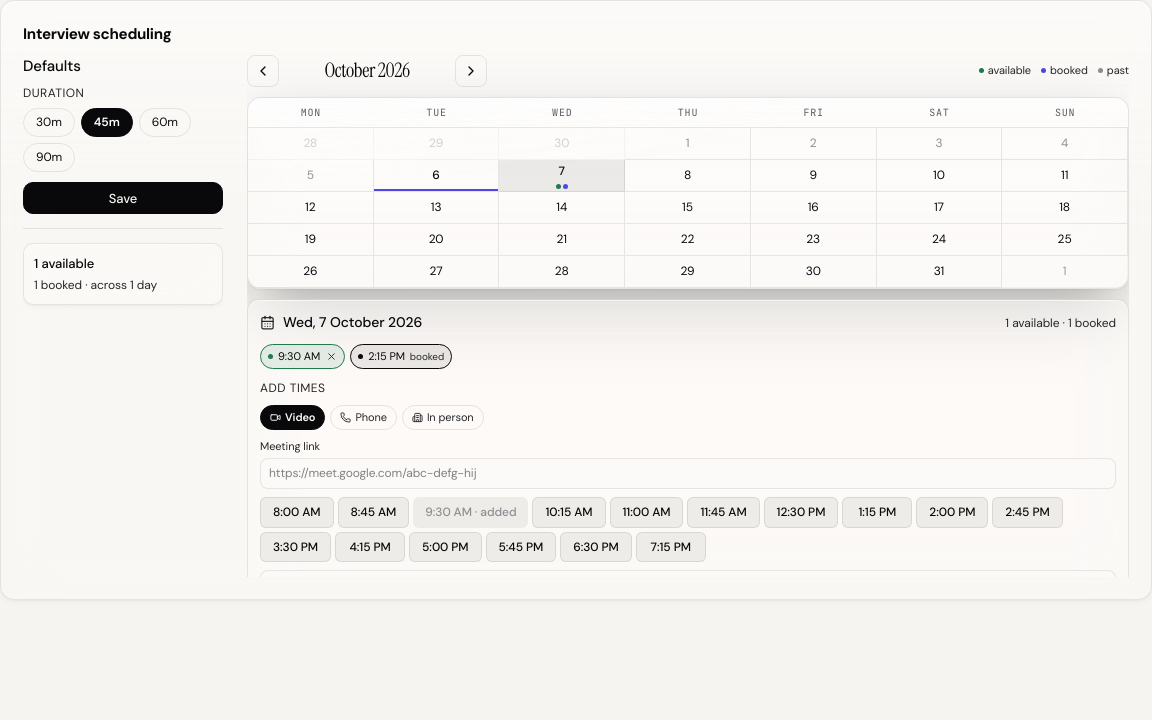
day detail panel › defaults to the next available date and switches when a date is clicked
The image size is (1152, 720).
Check: the element with test id "day-detail-panel" is shown, box [247,299,1129,577]
Check: the text "9:30 AM" is shown, box [260,344,345,369]
Step 1. Click the button "6" → (437, 176), box [374,160,499,192]
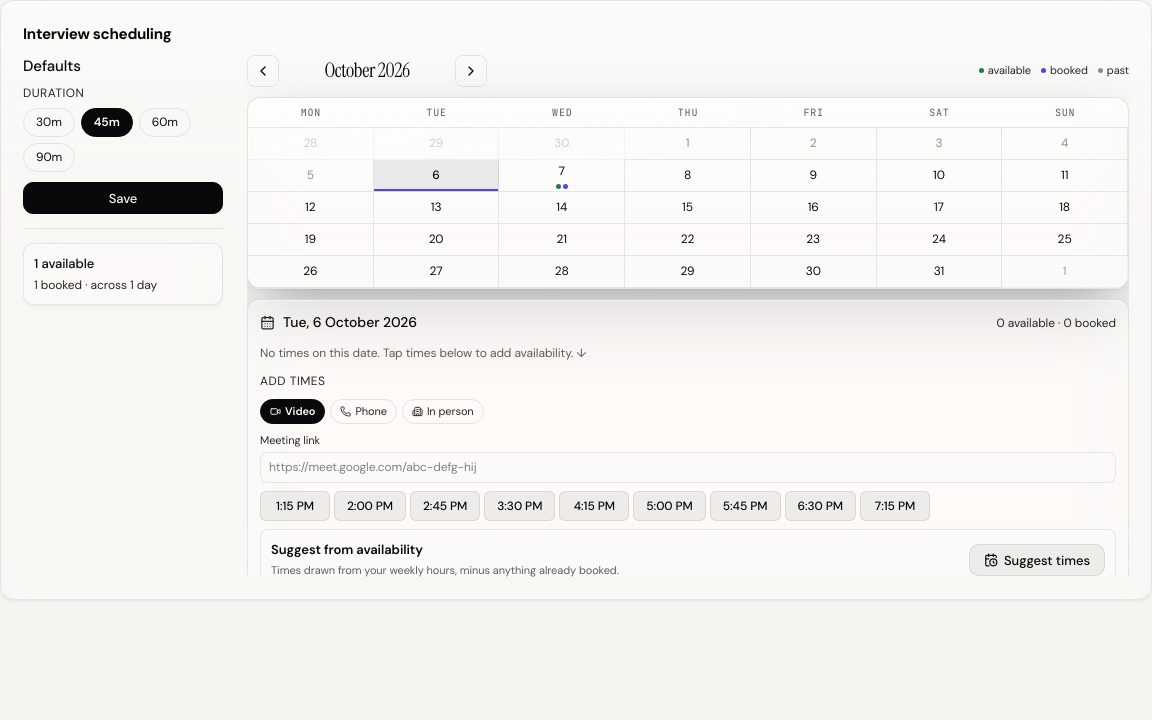
Check: the text "No times on this date" is shown, box [260,345,586,361]
